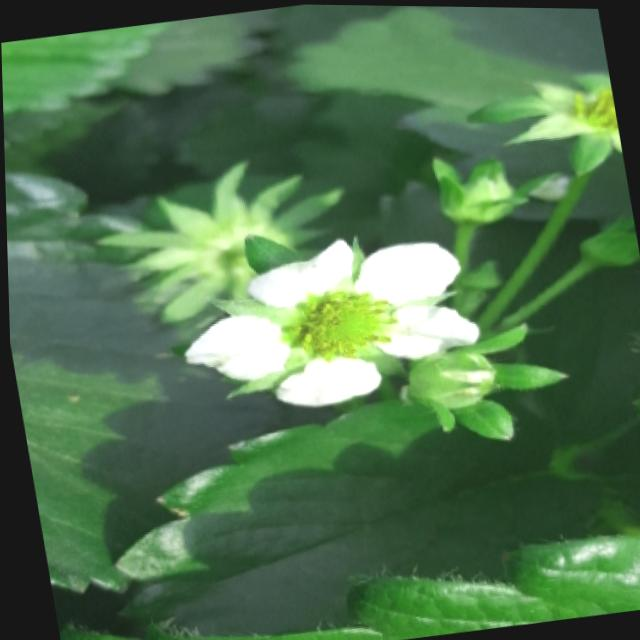Blossom Blight: (275, 283, 404, 362)
